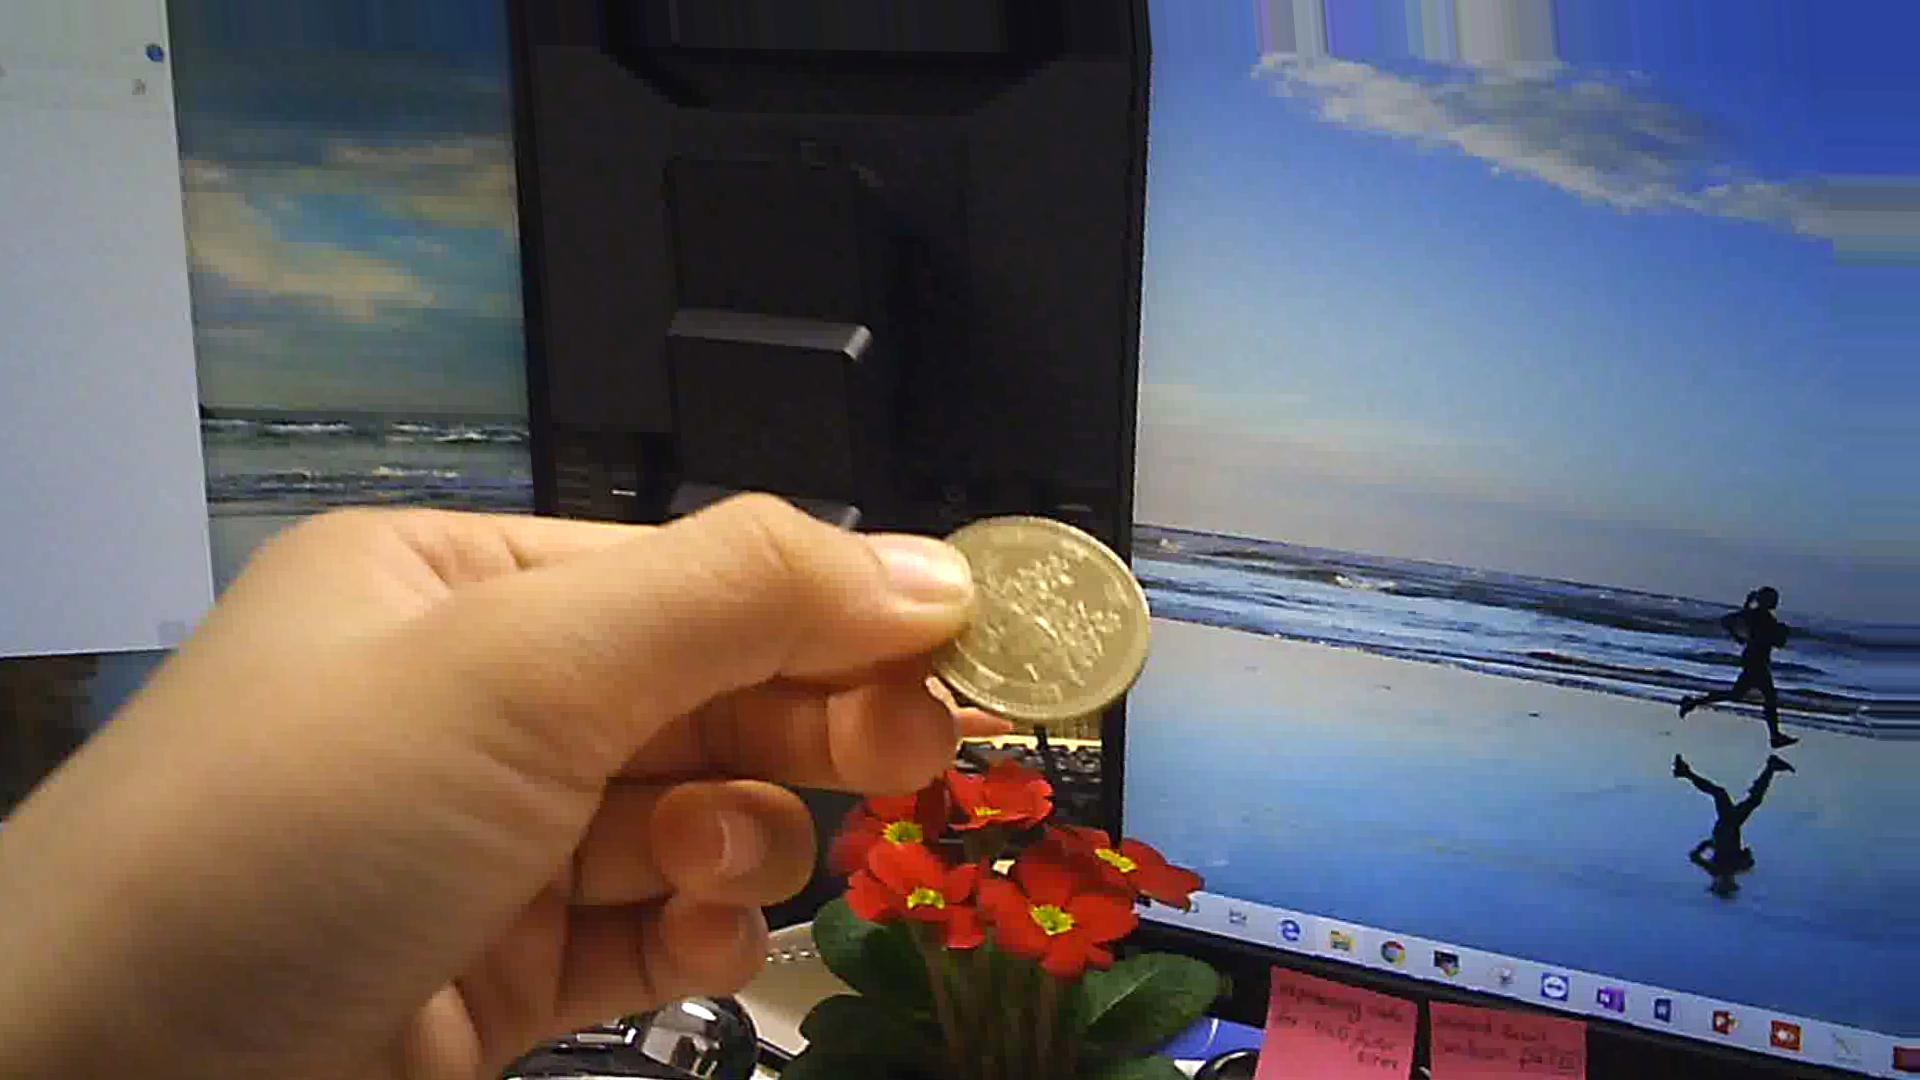500 Yen: (891, 497, 1143, 721)
